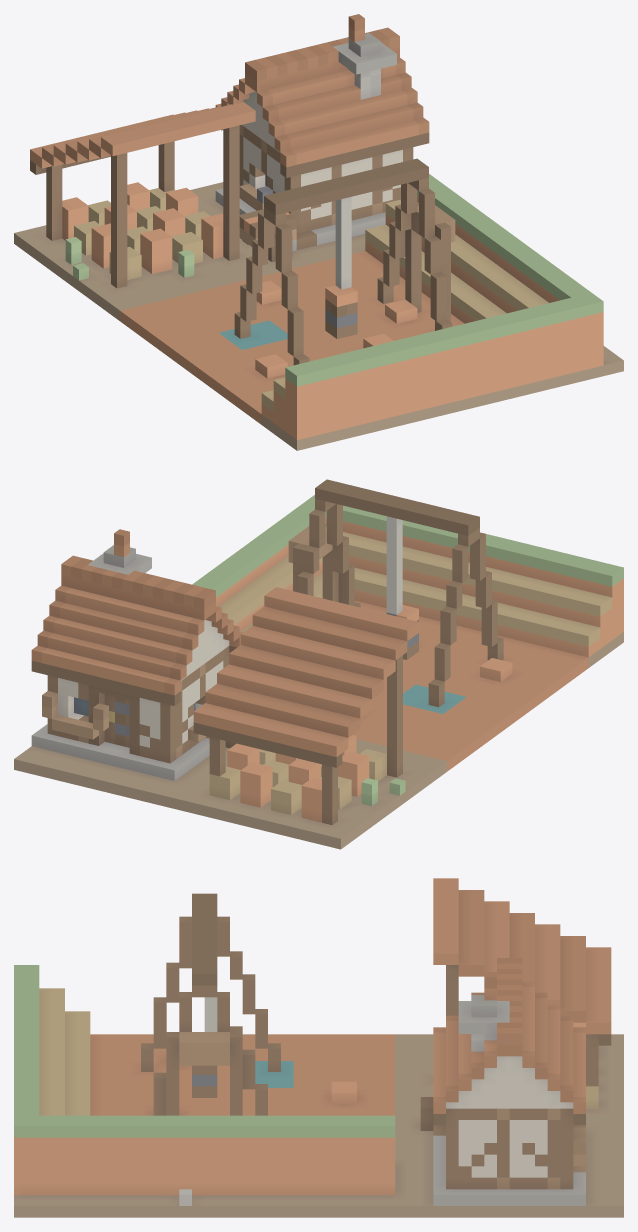
File: clay_pit.glb
The picture shows the model from 3 angles, top to bottom: view 1: azimuth 30°, elevation 25°; view 2: azimuth 150°, elevation 25°; view 3: azimuth 270°, elevation 25°; orthographic projection. The views are drawn at different scales.
Parts seen in each view (by area): view 1: clay_pit; view 2: clay_pit; view 3: clay_pit.
Part boxes in pixels (x1,y1,x2,y2): clay_pit: (14,14,623,450); clay_pit: (14,479,623,849); clay_pit: (14,878,623,1217).
Bounding box in the file's own units: 4 × 2.38 × 6.
